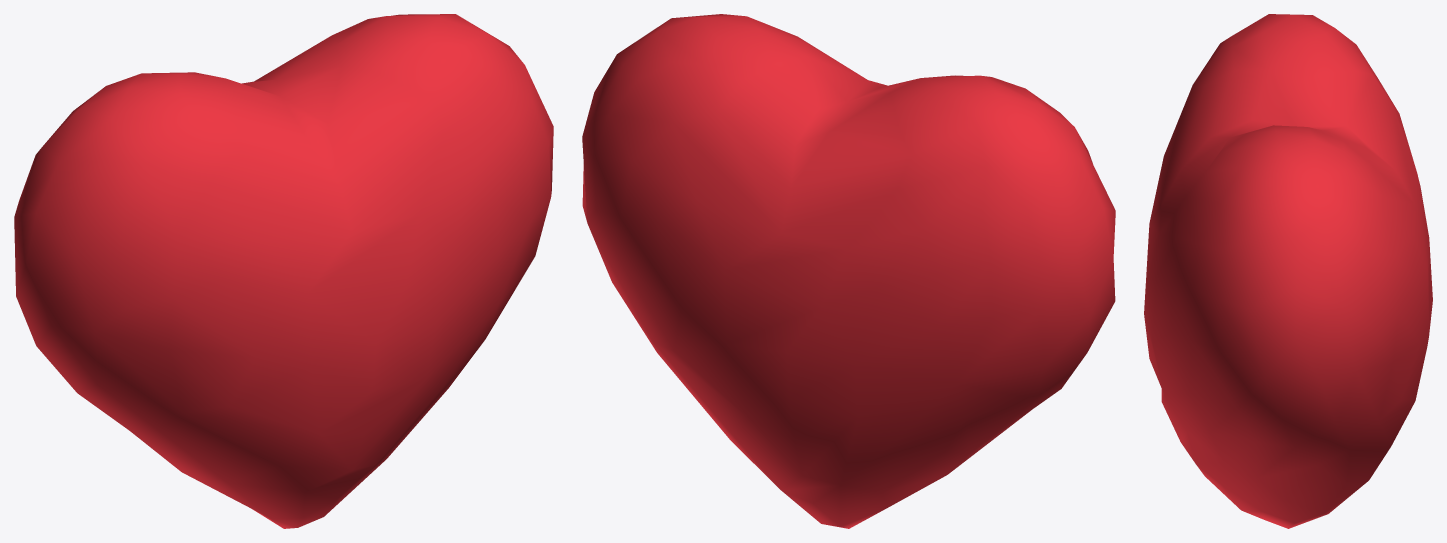
Rendered from heart.fbx.
3 views of the same model, side by side, from view 1: azimuth 30°, elevation 25°; view 2: azimuth 150°, elevation 25°; view 3: azimuth 270°, elevation 25° (orthographic). The views are drawn at different scales.
Parts seen in each view (by area): view 1: Sphere.001; view 2: Sphere.001; view 3: Sphere.001.
Part boxes in pixels (box(x1,y1,x2,y2)): Sphere.001: box(14, 14, 553, 528); Sphere.001: box(582, 14, 1115, 528); Sphere.001: box(1144, 14, 1432, 528).
Size of the model in its own units: 326 by 284 by 167.
